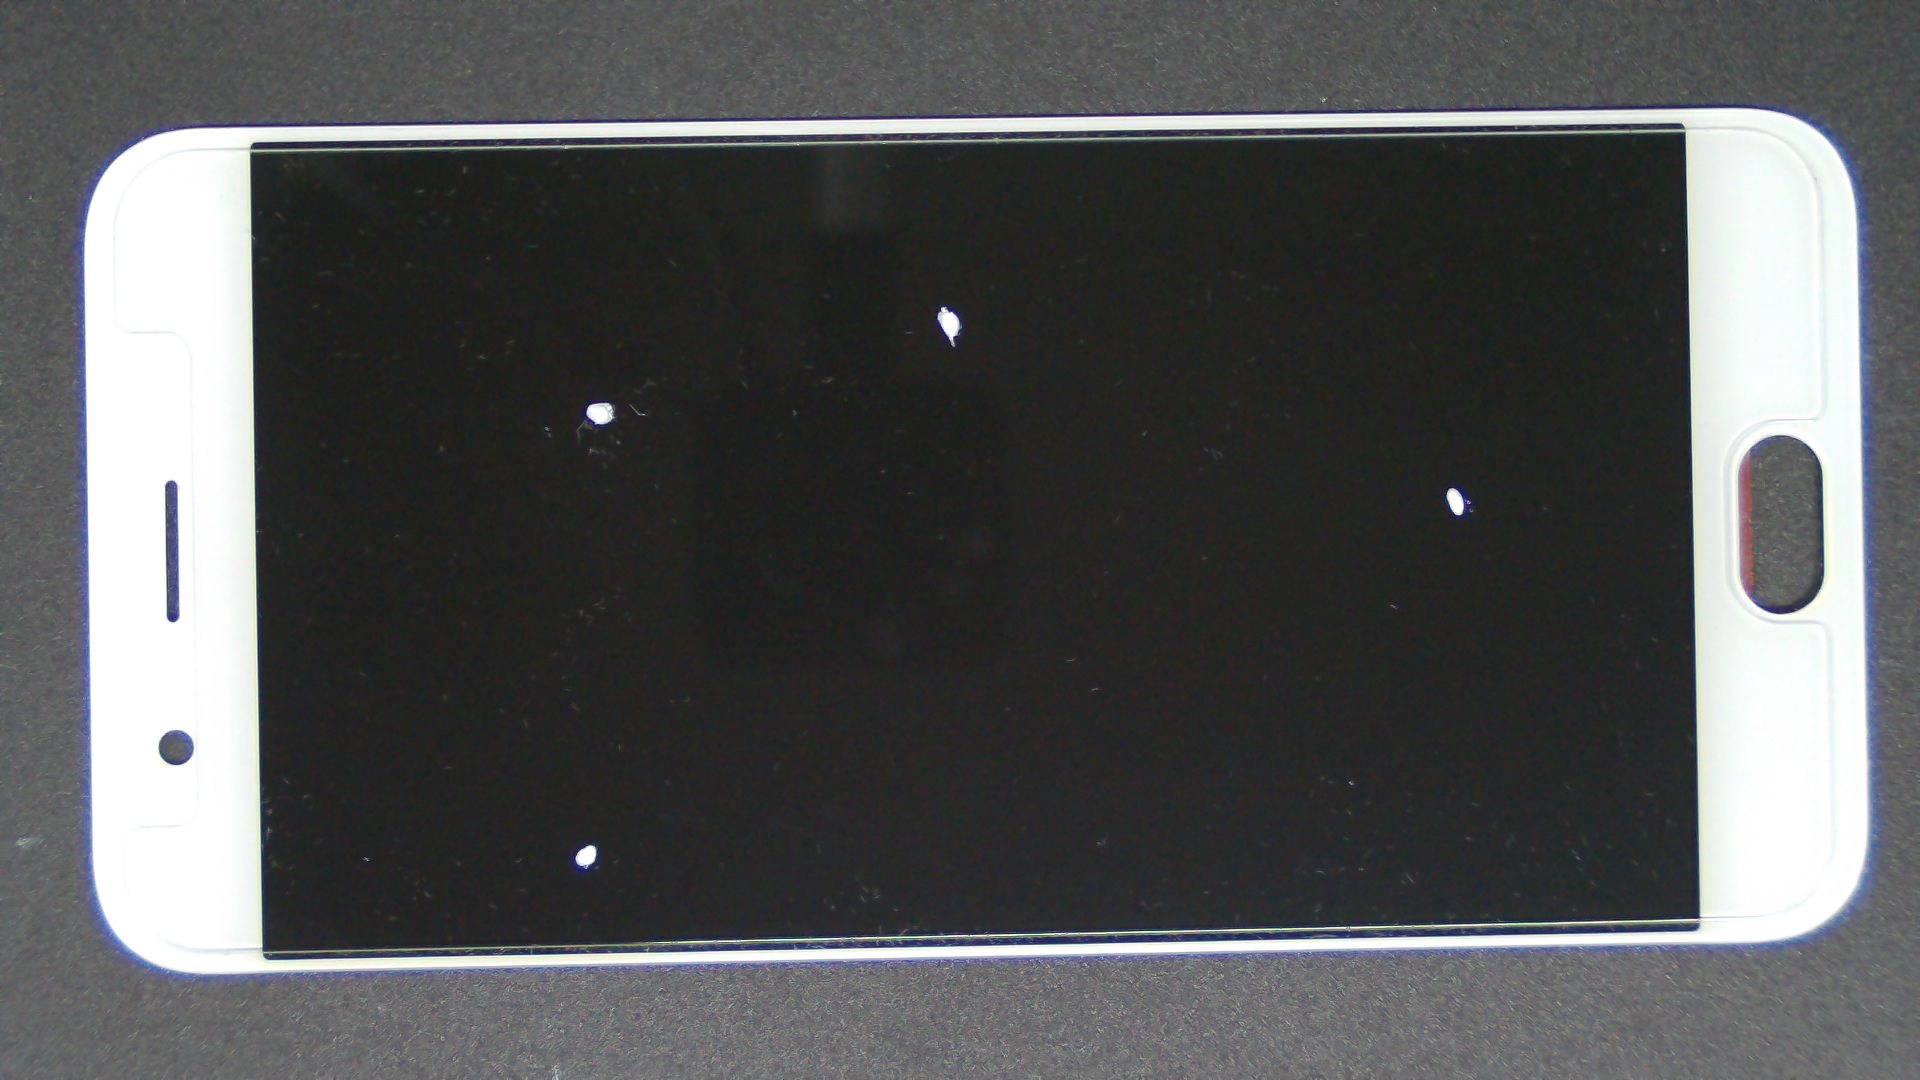oil: (727, 243, 1920, 729), (295, 421, 884, 1080), (472, 152, 1415, 458), (298, 200, 891, 603)
